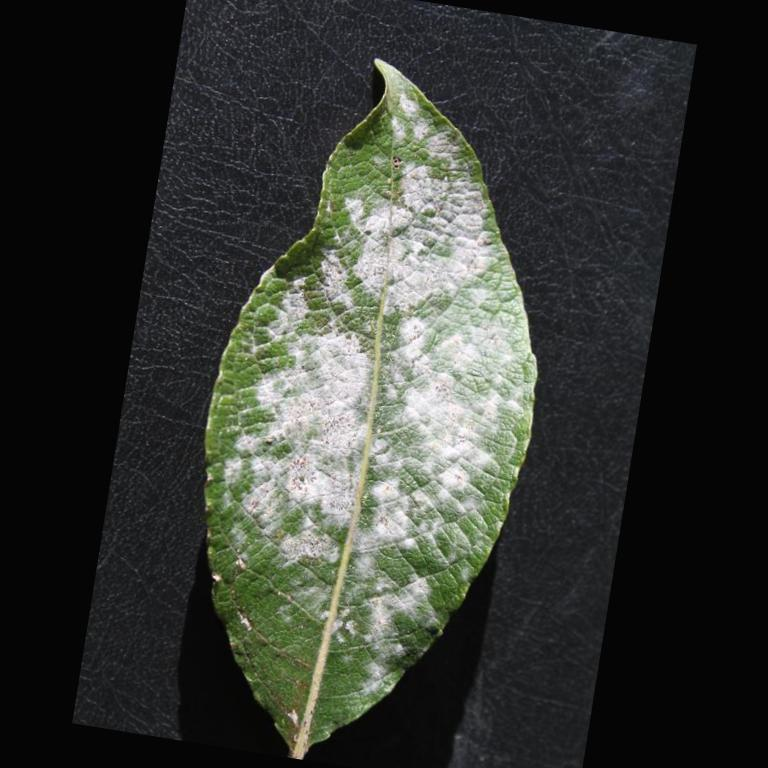powdery-mildew: (228, 318, 368, 570), (398, 340, 522, 533), (341, 166, 472, 320)
